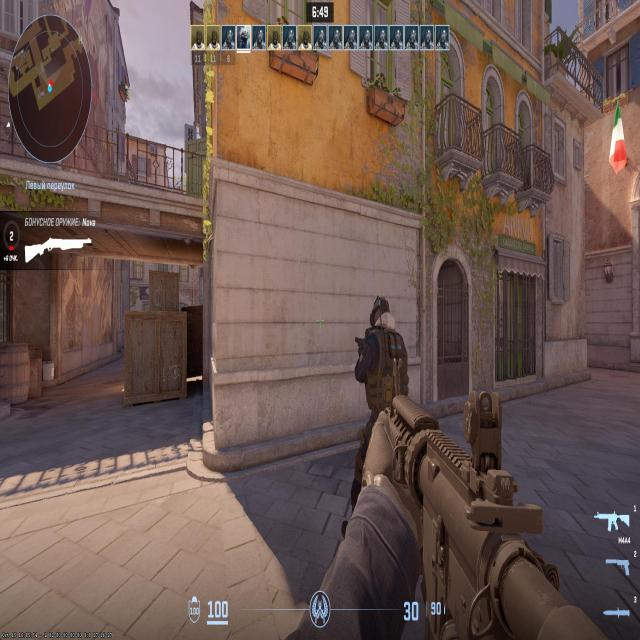CT: (366, 305, 404, 404)
CT_heat: (379, 305, 388, 327)
